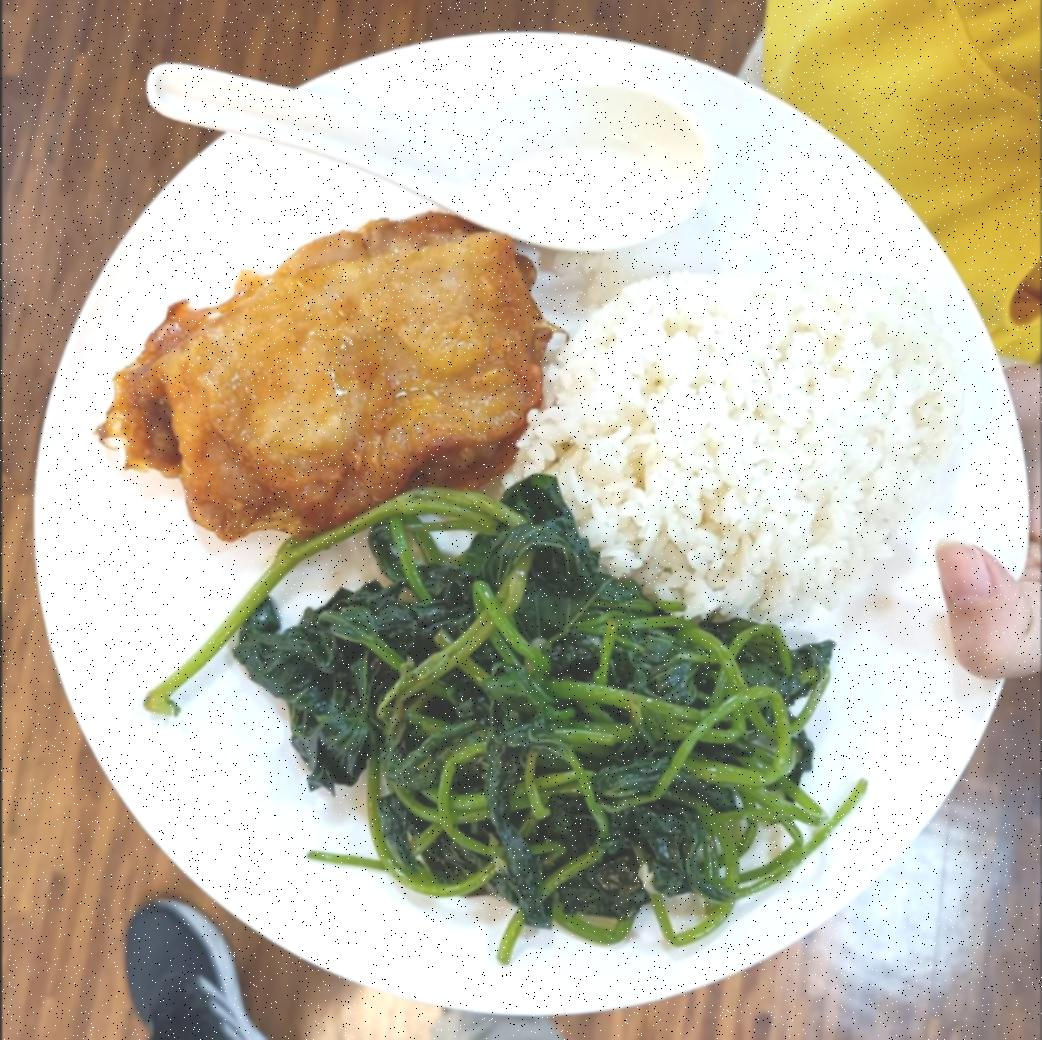grilled chicken leg steak: (101, 212, 545, 543)
plate: (21, 27, 1028, 1015)
side dish: (133, 493, 877, 961)
white rice: (520, 257, 960, 629)
